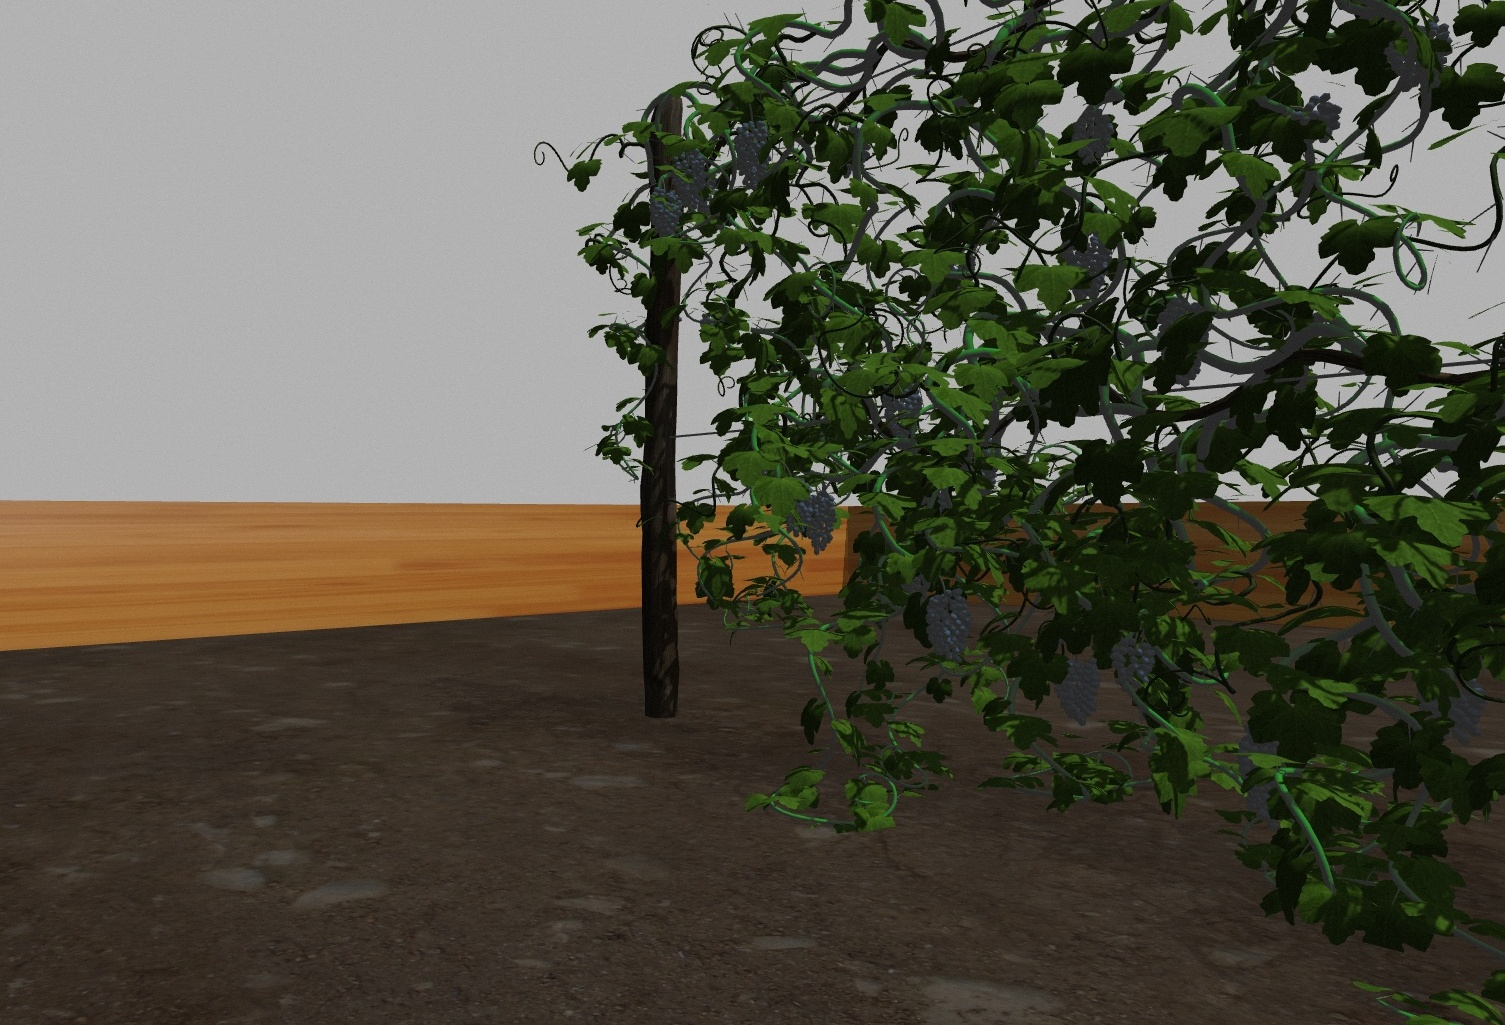grape: (1418, 666, 1488, 744), (1385, 21, 1452, 88), (1056, 237, 1112, 303), (1054, 653, 1102, 728), (925, 588, 971, 664), (1290, 92, 1344, 137), (734, 120, 769, 190), (669, 148, 706, 213), (1112, 636, 1155, 691), (1074, 106, 1114, 164), (882, 383, 921, 440), (806, 491, 837, 556), (648, 186, 683, 238)
